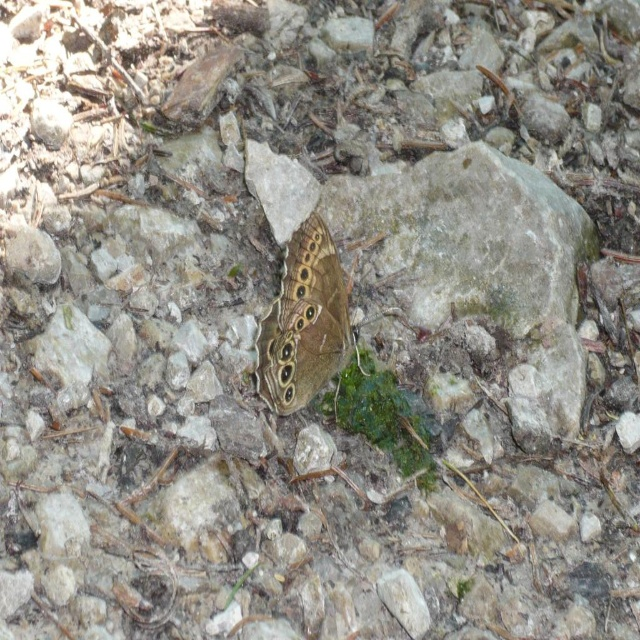Butterfly: (252, 212, 400, 417)
